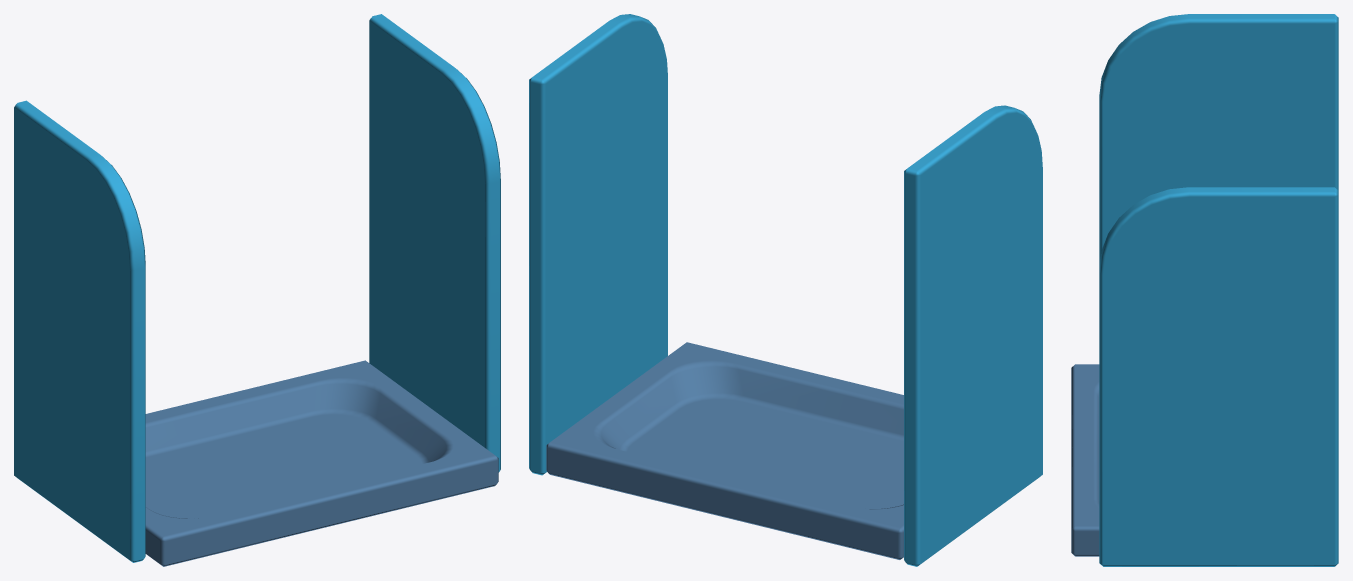
File: Shower.fbx
3 views of the same model, side by side, from view 1: azimuth 30°, elevation 25°; view 2: azimuth 150°, elevation 25°; view 3: azimuth 270°, elevation 25° (orthographic). The views are drawn at different scales.
Parts seen in each view (by area): view 1: Plane.002; view 2: Plane.002; view 3: Plane.002.
Boxes of the visible parts, x1,y1,x2,y2 form: Plane.002: (14,14,500,566); Plane.002: (529,14,1042,566); Plane.002: (1071,14,1338,566).
Bounding box in the file's own units: 206 × 199 × 129.
